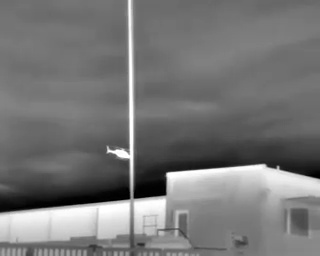HELICOPTER: (104, 142, 133, 164)
